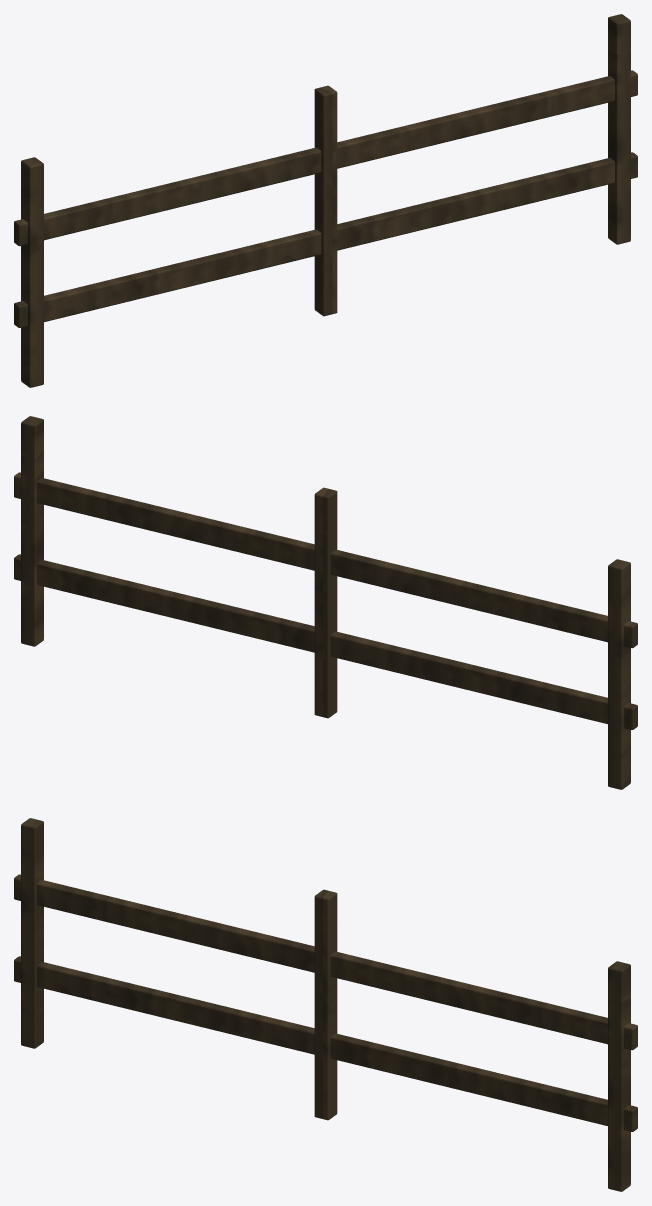
File: fence.glb
3 renders of one model, top to bottom at view 1: azimuth 30°, elevation 25°; view 2: azimuth 150°, elevation 25°; view 3: azimuth 330°, elevation 25°, orthographic.
Parts seen in each view (by area): view 1: Faded_rail, Faded_rail.001, Broken_fence_post.001, Broken_fence_post.002, Broken_fence_post; view 2: Faded_rail, Faded_rail.001, Broken_fence_post.001, Broken_fence_post.002, Broken_fence_post; view 3: Faded_rail, Faded_rail.001, Broken_fence_post.001, Broken_fence_post, Broken_fence_post.002.
Boxes of the visible parts, x1,y1,x2,y2 form: Faded_rail: (14, 152, 637, 327); Faded_rail.001: (14, 70, 637, 246); Broken_fence_post.001: (314, 85, 337, 316); Broken_fence_post.002: (608, 14, 630, 244); Broken_fence_post: (21, 157, 43, 387); Faded_rail: (14, 554, 637, 729); Faded_rail.001: (14, 472, 637, 648); Broken_fence_post.001: (314, 487, 337, 718); Broken_fence_post.002: (21, 416, 43, 646); Broken_fence_post: (608, 559, 630, 789); Faded_rail: (14, 956, 637, 1131); Faded_rail.001: (14, 874, 637, 1050); Broken_fence_post.001: (314, 889, 337, 1120); Broken_fence_post: (21, 818, 43, 1048); Broken_fence_post.002: (608, 961, 630, 1191).
Bounding box in the file's own units: 3.8 × 1.3 × 0.1.
1 material, 1 textured.
